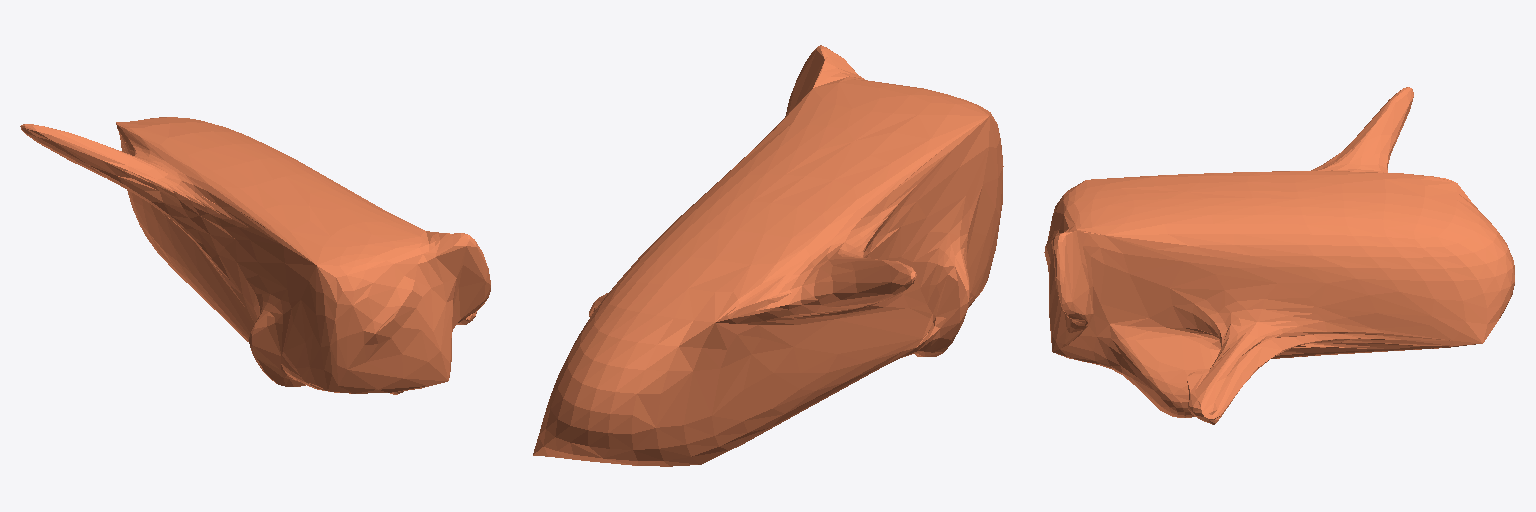
URDF robot description (blob718):

<robot name="blob718">
  <link name="random_obj_718">
    <contact>
      <lateral_friction value="1.0"/>
      <rolling_friction value="0.0"/>
      <inertia_scaling value="3.0"/>
      <contact_cfm value="0.0"/>
      <contact_erp value="1.0"/>
    </contact>
    <inertial>
      <origin rpy="0 0 0" xyz="0 0 0"/>
      <mass value="0.1235"/>
      <inertia ixx="1" ixy="0" ixz="0" iyy="1" iyz="0" izz="0"/>
    </inertial>
    <visual>
      <origin rpy="0 0 0" xyz="0 0 0"/>
      <geometry>
        <mesh filename="718.obj" scale="0.0092 0.0092 0.0092"/>
      </geometry>
      <material name="blockmat">
        <color rgba="0.95 0.57 0.40 1"/>
      </material>
    </visual>
    <collision>
      <origin rpy="0 0 0" xyz="0 0 0"/>
      <geometry>
        <mesh filename="718_coll.obj" scale="0.0092 0.0092 0.0092"/>
      </geometry>
    </collision>
  </link>
</robot>

--- What the picture shows (computed from the rendered views, not written in the file) ---
Views: 3 orthographic renders of the robot side by side, from view 1: azimuth 30°, elevation 25°; view 2: azimuth 150°, elevation 25°; view 3: azimuth 270°, elevation 25°.
Robot: blob718 — 1 links, 0 joints (none); root link random_obj_718; default pose: all joints at 0.
Links seen in each view (by area): view 1: random_obj_718; view 2: random_obj_718; view 3: random_obj_718.
Link boxes in pixels (x1=…): random_obj_718: x1=20, y1=117, x2=490, y2=394; random_obj_718: x1=533, y1=45, x2=1003, y2=466; random_obj_718: x1=1044, y1=87, x2=1514, y2=424.
Size in the robot's own frame: 0.0849 by 0.1081 by 0.0552 metres.
1 mesh visuals loaded from 1 distinct referenced files (1 OBJ).
